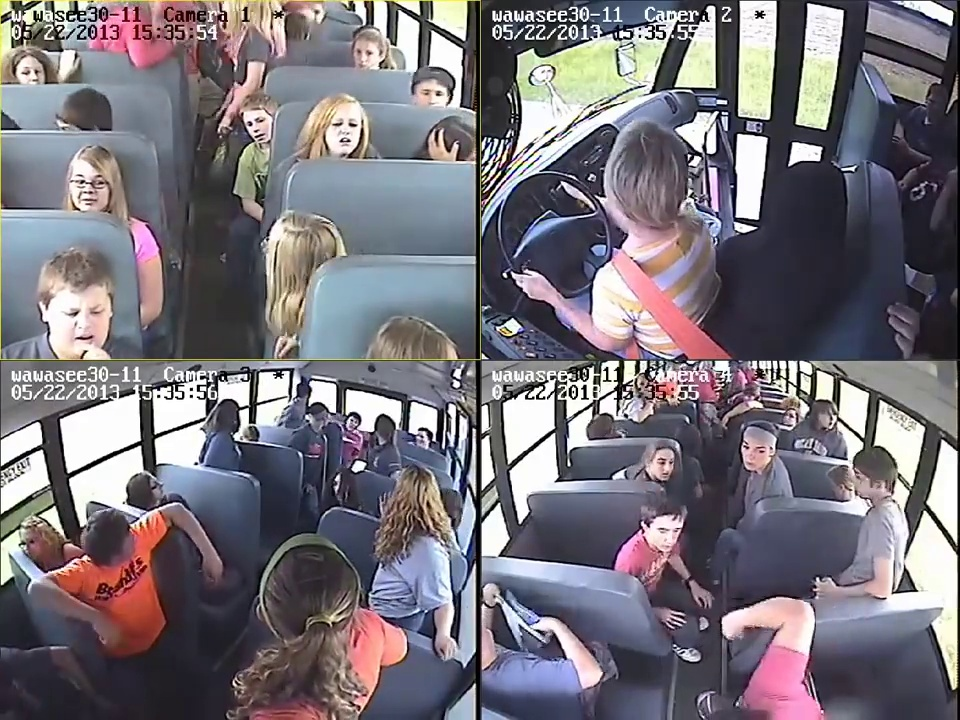face: (55, 297, 107, 348), (327, 106, 364, 154), (69, 171, 108, 206), (18, 524, 51, 562), (654, 515, 683, 554), (245, 108, 272, 148), (10, 59, 45, 85), (740, 442, 772, 470), (421, 78, 448, 108), (141, 475, 166, 506), (650, 452, 675, 483), (815, 404, 837, 432), (352, 44, 375, 70), (783, 411, 799, 429), (345, 413, 359, 433), (414, 430, 429, 445)
